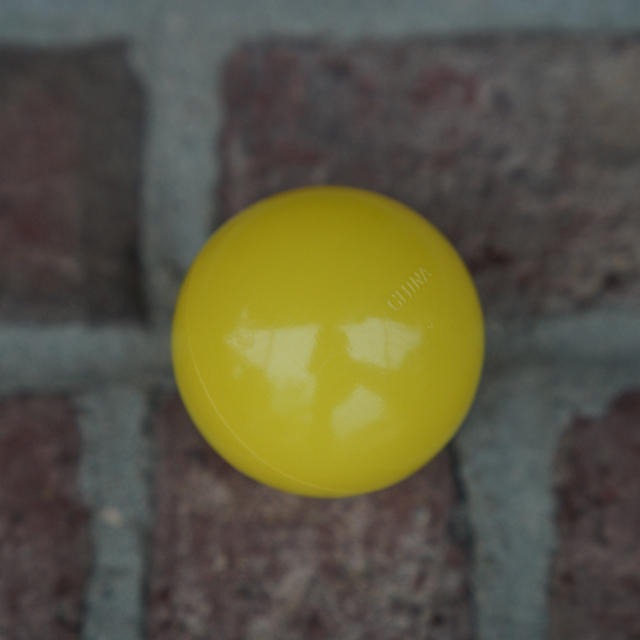Ball: (167, 188, 482, 495)
